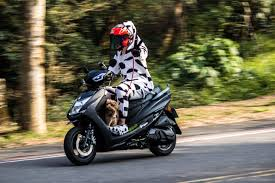helmet: (112, 21, 137, 48)
